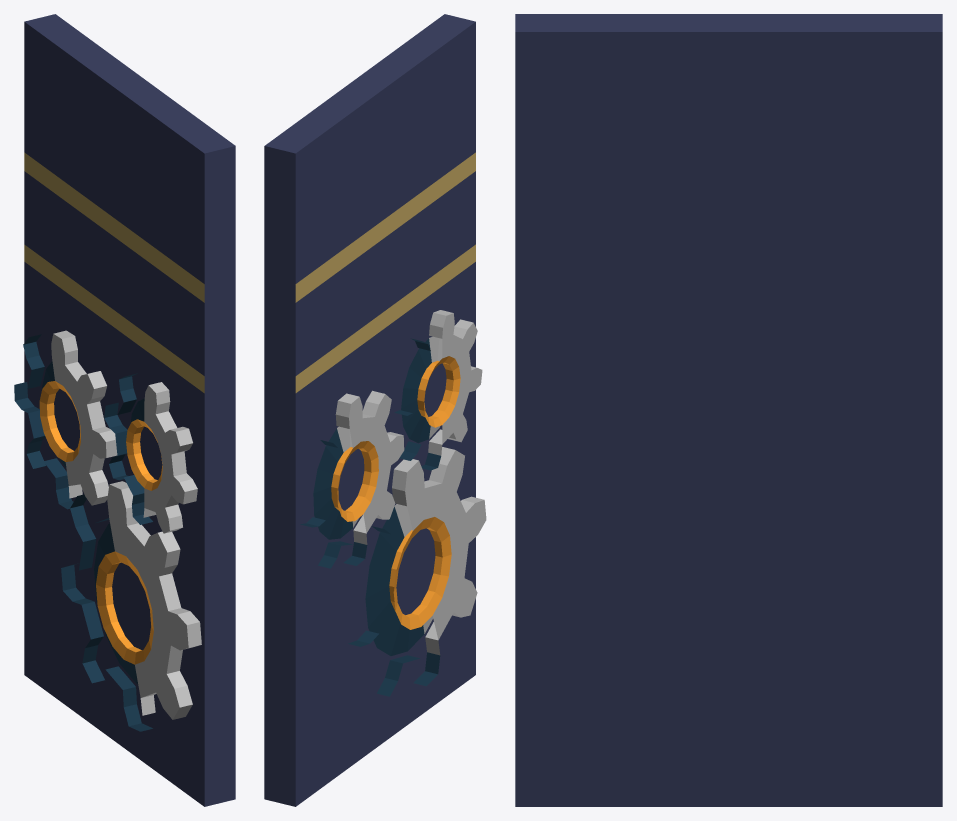
File: gears_wall.fbx
3 views of the same model, side by side, from view 1: azimuth 30°, elevation 25°; view 2: azimuth 150°, elevation 25°; view 3: azimuth 270°, elevation 25° (orthographic). The views are drawn at different scales.
Parts seen in each view (by area): view 1: Plane; view 2: Plane; view 3: Plane.
Part boxes in pixels (box(x1,y1,x2,y2)): Plane: box(14, 14, 235, 806); Plane: box(264, 14, 486, 806); Plane: box(515, 14, 942, 806).
Bounding box in the file's own units: 14.23 × 200 × 100.
